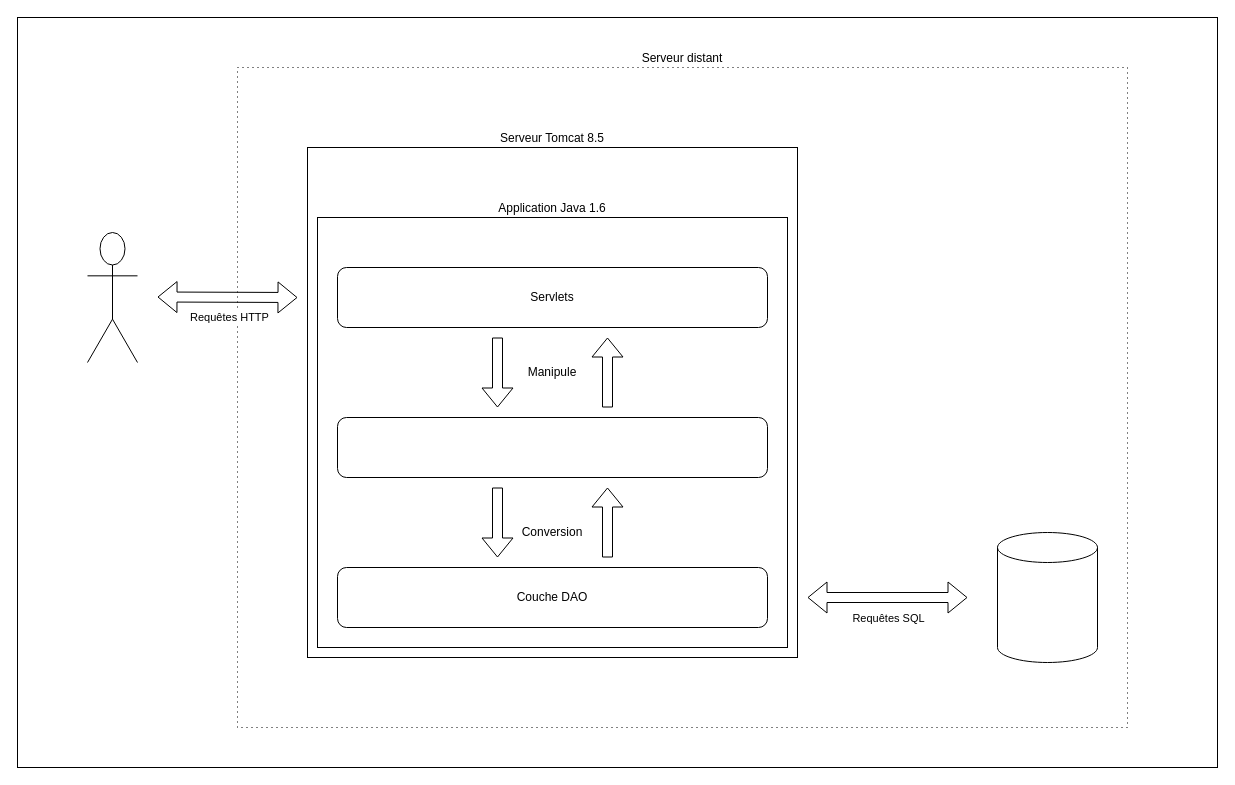
This 1235x785 diagram has some shape labels left out. Here are the shapes that lost their labels. From the top down, the centre of each, then its label:
At [112,297]: "Utilisateur de l'application".
At [552,447]: "Entités en RAM".
At [1047,597]: "Données".
